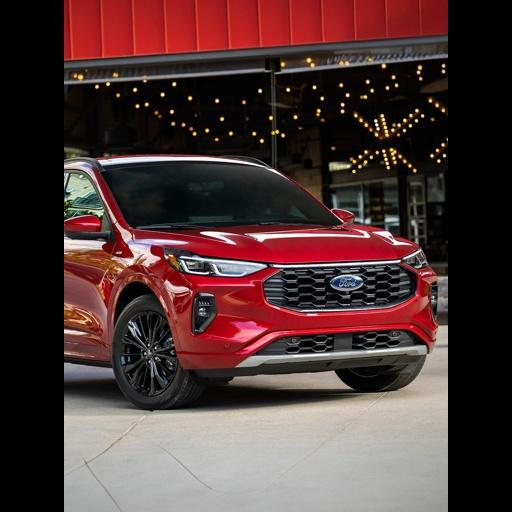suv: (64, 154, 437, 409)
